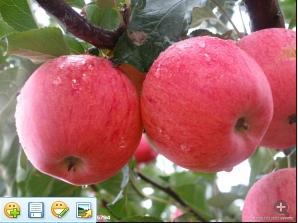apple: (141, 30, 274, 170), (13, 54, 145, 188), (239, 26, 297, 149), (241, 167, 297, 221)
